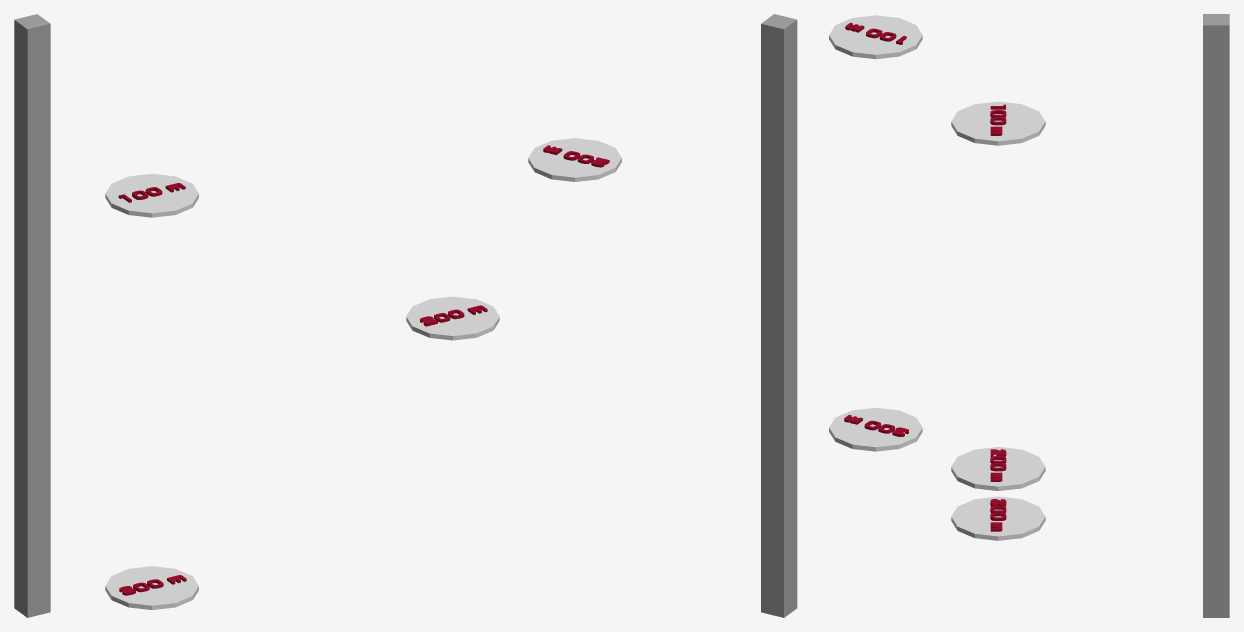
File: new_kaitei_stage_01.fbx
3 views of the same model, side by side, from view 1: azimuth 30°, elevation 25°; view 2: azimuth 150°, elevation 25°; view 3: azimuth 270°, elevation 25° (orthographic).
Parts seen in each view (by area): view 1: obj_kaitei_stage_01_guide, obj_100m, obj_200m, obj_300m; view 2: obj_kaitei_stage_01_guide, obj_100m, obj_300m, obj_200m; view 3: obj_kaitei_stage_01_guide, obj_100m, obj_300m, obj_200m.
Part boxes in pixels (x1,y1,x2,y2): obj_kaitei_stage_01_guide: (14,14,50,617); obj_100m: (105,173,198,217); obj_200m: (406,296,499,340); obj_300m: (105,566,198,609); obj_kaitei_stage_01_guide: (761,14,797,617); obj_100m: (829,15,922,59); obj_300m: (829,407,922,451); obj_200m: (528,138,621,181); obj_kaitei_stage_01_guide: (1203,14,1229,617); obj_100m: (951,101,1045,145); obj_300m: (951,496,1045,540); obj_200m: (951,447,1045,490).
Size of what is drawn, in the model's own units: 20370 by 30000 by 12778.
